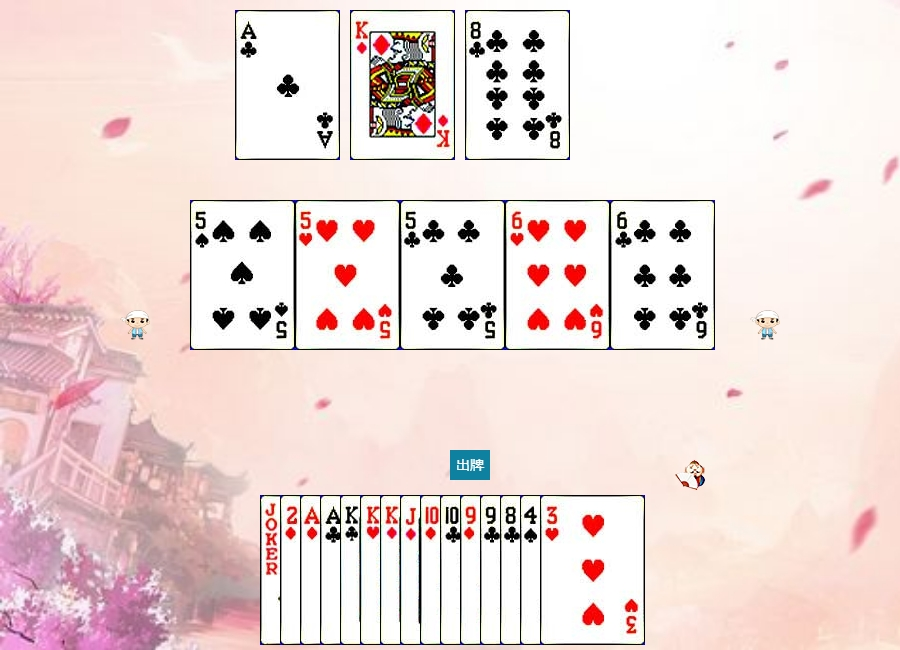10~1: (420, 495, 525, 645)
10~2: (440, 495, 545, 645)
11~1: (400, 495, 505, 645)
13~1: (350, 10, 455, 160), (380, 495, 485, 645)
13~2: (340, 495, 445, 645)
13~3: (360, 495, 465, 645)
14~1: (300, 495, 405, 645)
14~2: (235, 10, 340, 160), (320, 495, 425, 645)
15~1: (280, 495, 385, 645)
18~4: (260, 495, 365, 645)
3~3: (540, 495, 645, 645)
4~4: (520, 495, 625, 645)
5~2: (400, 200, 505, 350)
5~3: (295, 200, 400, 350)
5~4: (190, 200, 295, 350)
6~2: (610, 200, 715, 350)
6~3: (505, 200, 610, 350)
8~2: (465, 10, 570, 160), (500, 495, 605, 645)
9~1: (460, 495, 565, 645)
9~2: (480, 495, 585, 645)
